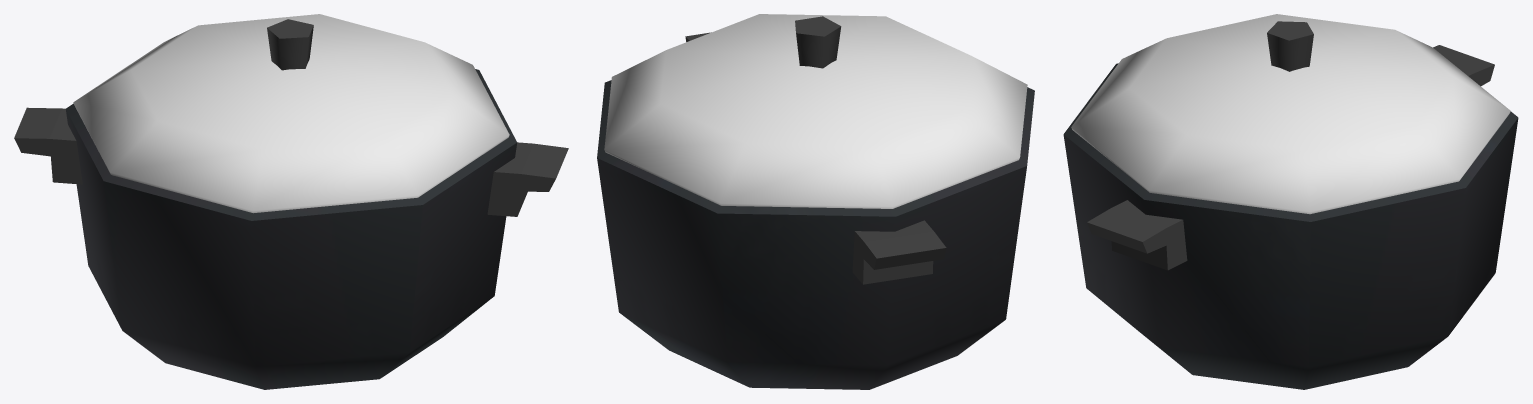
3 views of the same model, side by side, from view 1: azimuth 30°, elevation 25°; view 2: azimuth 150°, elevation 25°; view 3: azimuth 270°, elevation 25° (orthographic). The views are drawn at different scales.
Visible parts, largest first — view 1: Olla002_Metal_04001_0, t003_Material008_0, Olla002_Material007_0, t003_Material007_0; view 2: Olla002_Metal_04001_0, t003_Material008_0, Olla002_Material007_0, t003_Material007_0; view 3: Olla002_Metal_04001_0, t003_Material008_0, Olla002_Material007_0, t003_Material007_0.
Boxes of the visible parts, <box> form: Olla002_Metal_04001_0: <box>65,69,517,389</box>; t003_Material008_0: <box>73,14,509,213</box>; Olla002_Material007_0: <box>14,107,568,216</box>; t003_Material007_0: <box>267,19,313,70</box>; Olla002_Metal_04001_0: <box>597,80,1034,389</box>; t003_Material008_0: <box>604,14,1027,208</box>; Olla002_Material007_0: <box>685,32,946,284</box>; t003_Material007_0: <box>795,16,841,68</box>; Olla002_Metal_04001_0: <box>1063,63,1518,389</box>; t003_Material008_0: <box>1071,14,1510,214</box>; Olla002_Material007_0: <box>1087,45,1494,270</box>; t003_Material007_0: <box>1267,21,1313,71</box>.
Size of the model in its own units: 0.3715 by 0.2592 by 0.3621.
Materials: 3 (1 with a texture image).
